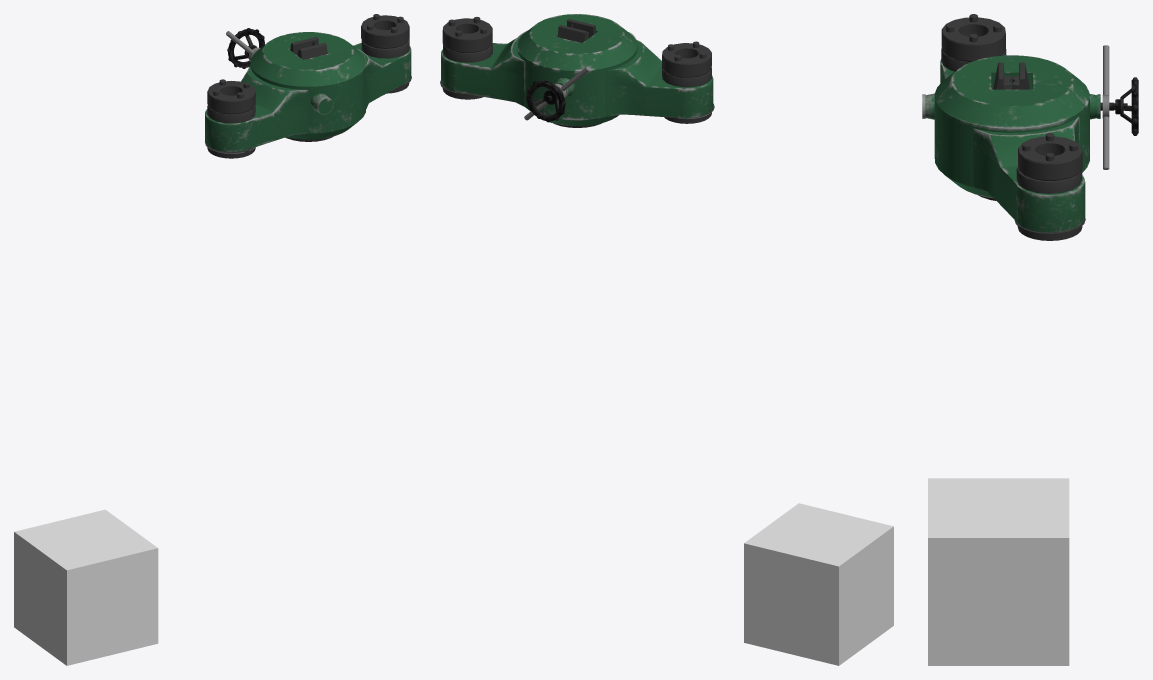
File: UTM_mid_base.fbx
3 renders of one model, left to right at view 1: azimuth 30°, elevation 25°; view 2: azimuth 150°, elevation 25°; view 3: azimuth 270°, elevation 25°, orthographic. The views are drawn at different scales.
Visible parts, largest first — view 1: Cube, comprasion_low.001, mid_rotater_dial_low.001, mid_lower_speciemen_holder_low.001; view 2: comprasion_low.001, Cube, mid_rotater_dial_low.001, mid_lower_speciemen_holder_low.001; view 3: Cube, comprasion_low.001, mid_secondary_rotator_low.001, mid_rotater_dial_low.001, mid_lower_speciemen_holder_low.001.
Boxes of the visible parts, box(x1,y1,x2,y2) form: Cube: box(14, 509, 158, 665); comprasion_low.001: box(205, 14, 411, 158); mid_rotater_dial_low.001: box(227, 28, 264, 68); mid_lower_speciemen_holder_low.001: box(290, 37, 327, 59); comprasion_low.001: box(440, 14, 714, 127); Cube: box(744, 503, 893, 665); mid_rotater_dial_low.001: box(526, 79, 565, 122); mid_lower_speciemen_holder_low.001: box(558, 19, 596, 42); Cube: box(928, 478, 1069, 665); comprasion_low.001: box(922, 14, 1100, 240); mid_secondary_rotator_low.001: box(1102, 45, 1109, 169); mid_rotater_dial_low.001: box(1100, 77, 1138, 135); mid_lower_speciemen_holder_low.001: box(993, 62, 1029, 89).
Size of the model in its own units: 140 by 184 by 50.56.
